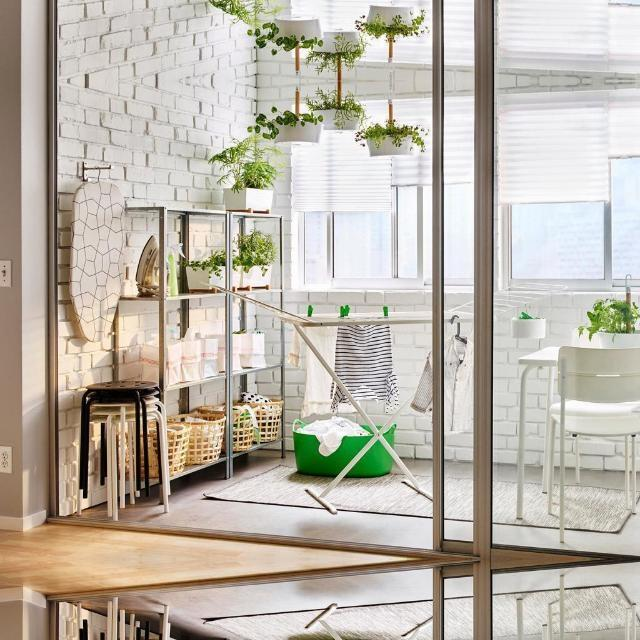obstacle: (261, 292, 474, 520), (542, 342, 640, 546), (72, 364, 180, 516), (260, 595, 473, 640), (542, 571, 640, 640), (71, 600, 180, 640)
